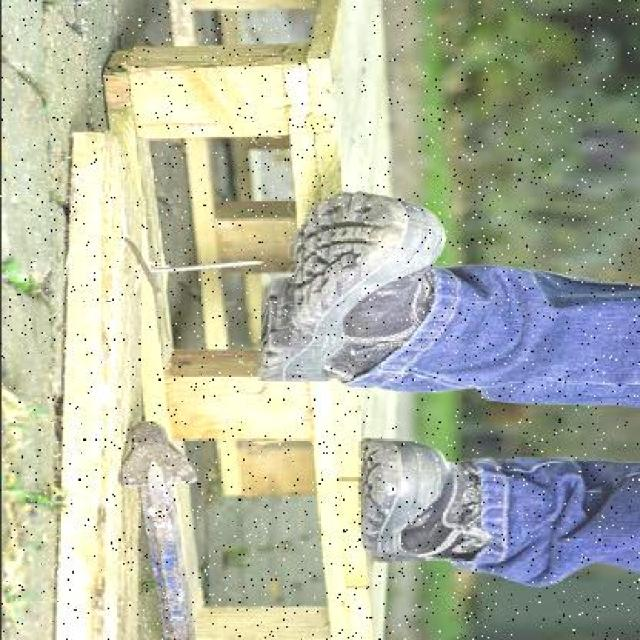shoes: (253, 196, 447, 387), (351, 442, 483, 564)
